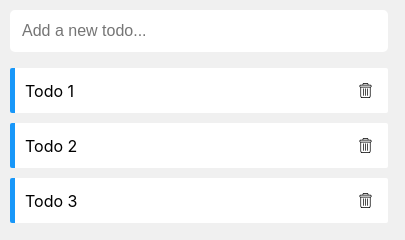
Scenario: App component › When a todo is deleted › it is removed from the list
Click the button without text in the row of "Todo 1" at (366,90), box [353,78,378,103]
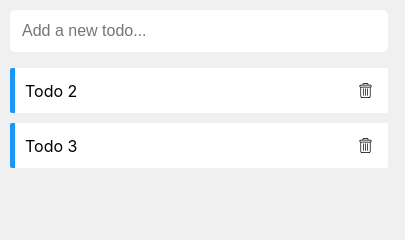
Expected: the list item "Todo 1" is gone
